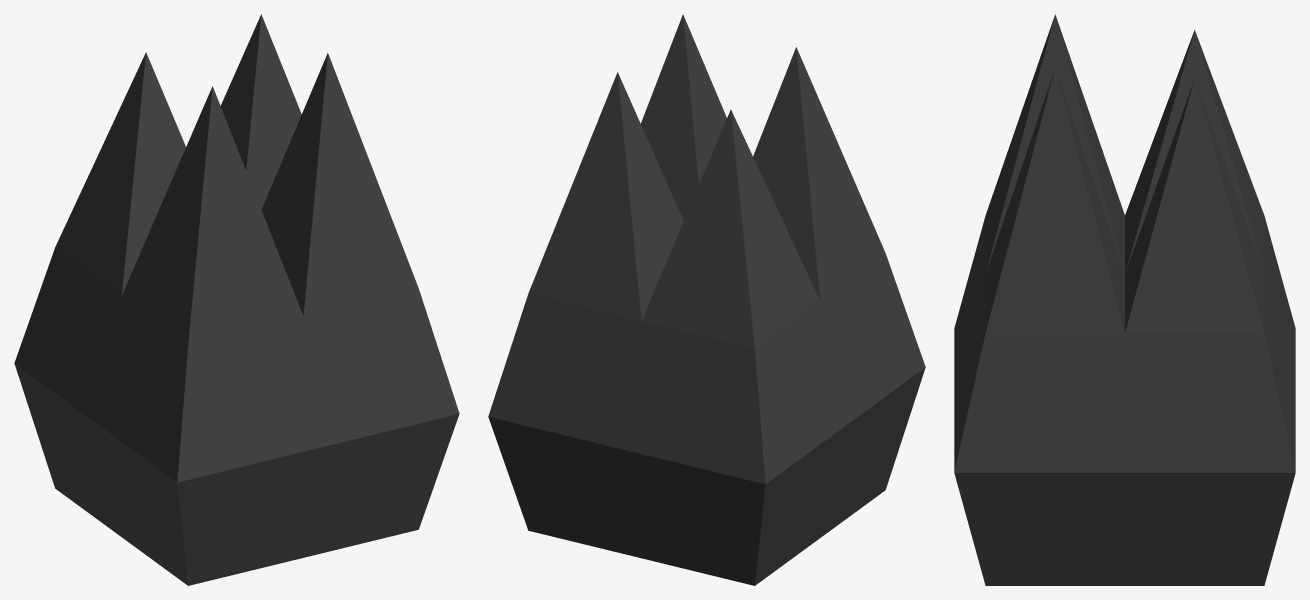
Rendered from b_tele.obj.
The picture shows the model from 3 angles, left to right: view 1: azimuth 30°, elevation 25°; view 2: azimuth 150°, elevation 25°; view 3: azimuth 270°, elevation 25°; orthographic projection. The views are drawn at different scales.
Visible parts, largest first — view 1: Cube; view 2: Cube; view 3: Cube.
Boxes of the visible parts, box(x1,y1,x2,y2) form: Cube: box(14, 14, 459, 585); Cube: box(488, 14, 925, 585); Cube: box(954, 14, 1295, 585).
Bounding box in the file's own units: 2.45 × 3.87 × 2.45.
1 material, 1 textured.
